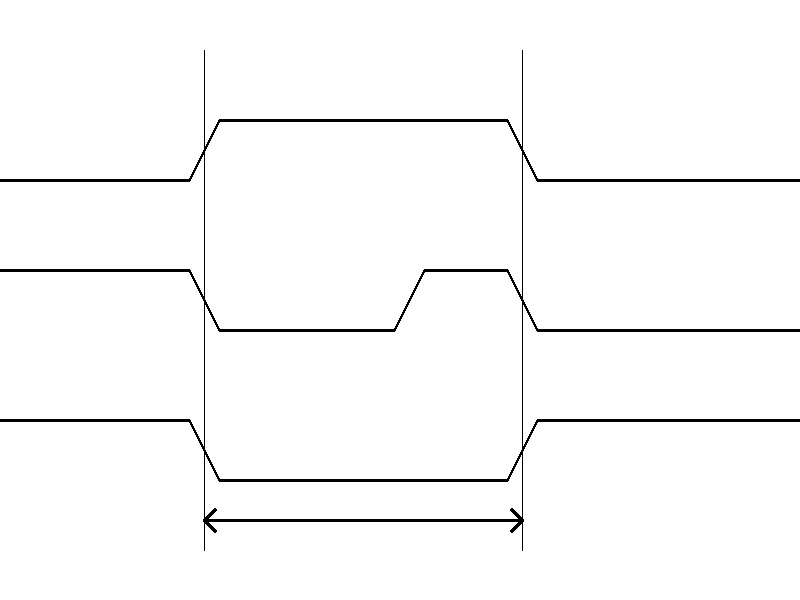double_arrow: (204, 505, 522, 535)
